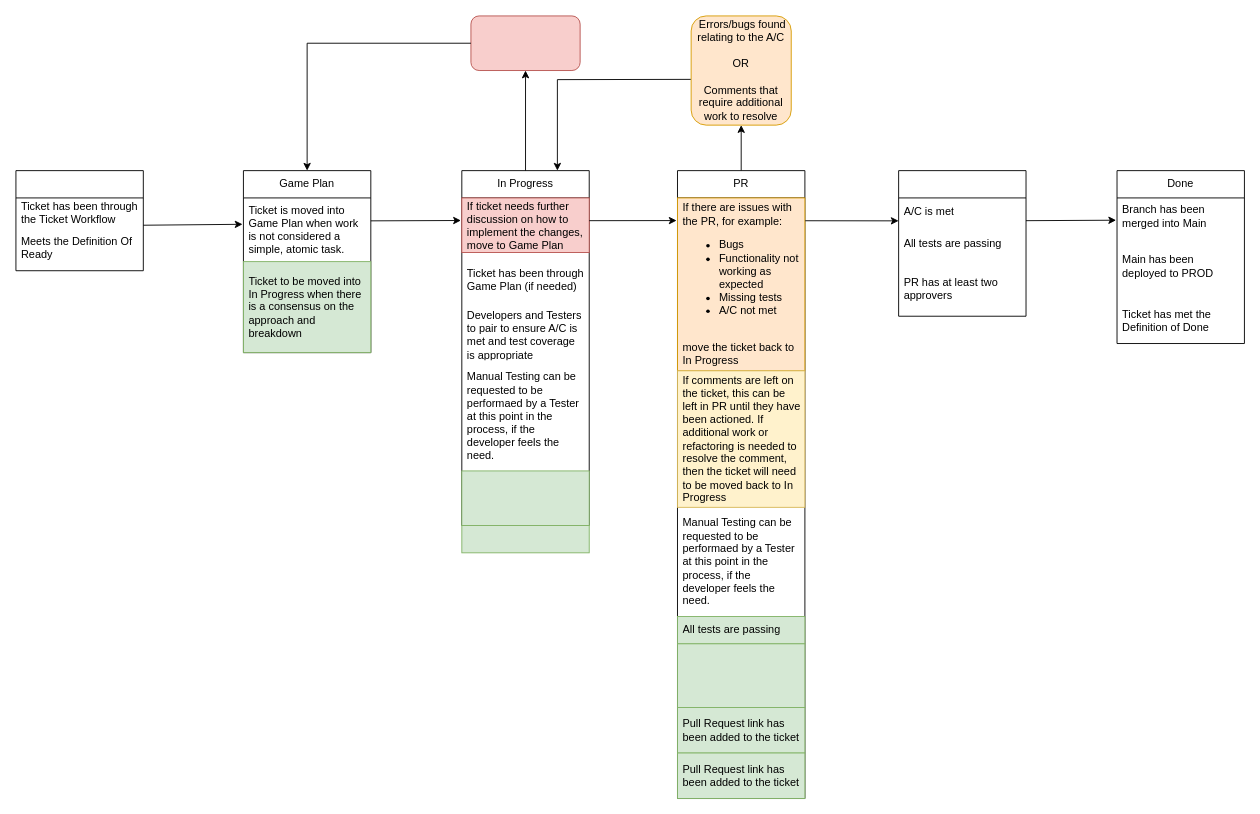
The diagram is 1260 pixels wide and 814 high, and some of its shapes have lost their labels. Here are the shapes that lost their labels. From the top down, the box of each, then its label:
(470, 15, 580, 71): Work is too complex and needs a discussion on how to implement it
(15, 170, 143, 271): To Do
(898, 170, 1026, 316): Ready For Release
(461, 470, 589, 526): Ticket to be moved into PR once the A/C has been met.
(461, 525, 589, 553): A Pull Request has been opened
(677, 643, 805, 708): Comments on PR have been addressed
